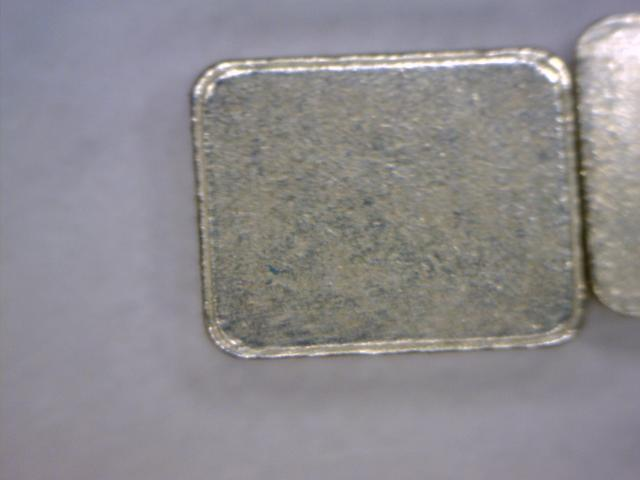nok: (183, 42, 590, 360)
